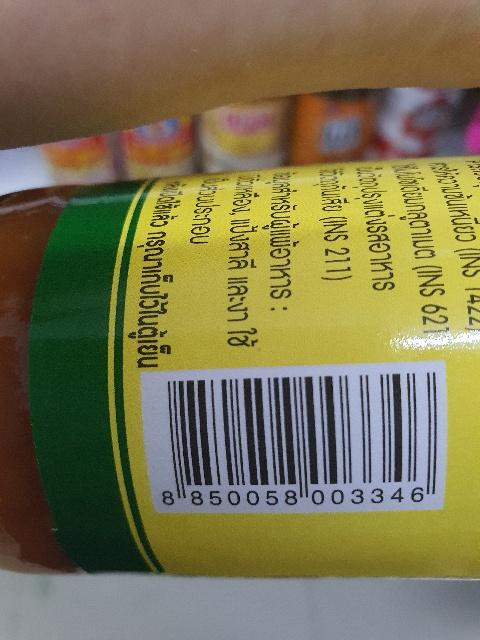Barcode: (153, 364, 444, 512)
